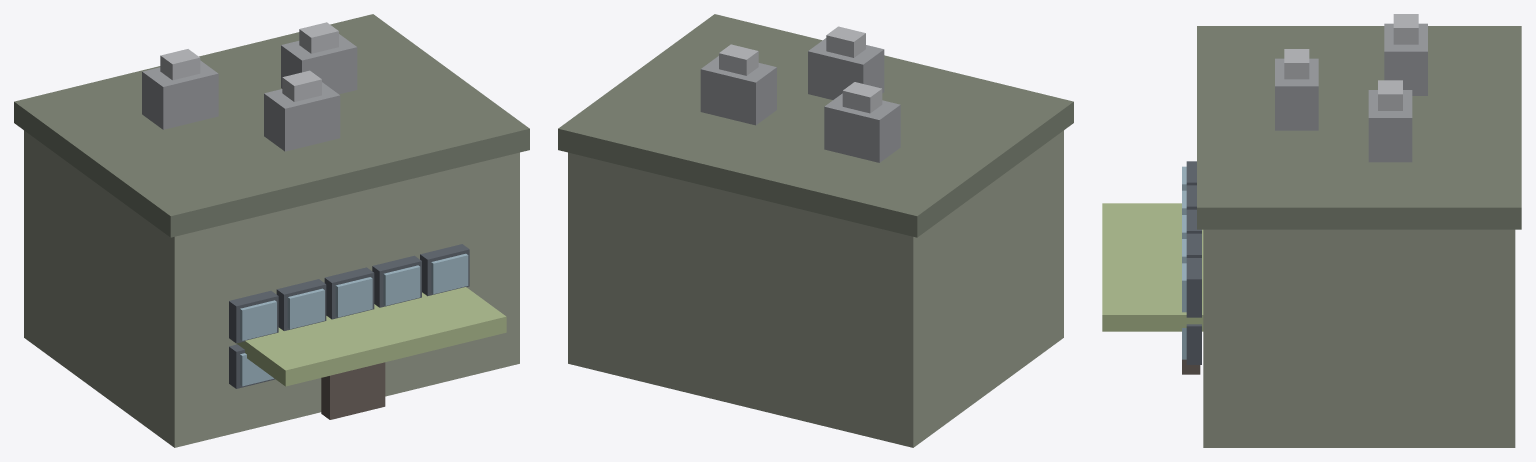
File: furniture_store.glb
The picture shows the model from 3 angles, left to right: view 1: azimuth 30°, elevation 25°; view 2: azimuth 150°, elevation 25°; view 3: azimuth 270°, elevation 25°; orthographic projection. The views are drawn at different scales.
Parts seen in each view (by area): view 1: world; view 2: world; view 3: world.
Boxes of the visible parts, x1,y1,x2,y2 form: world: [14, 14, 529, 447]; world: [558, 14, 1073, 447]; world: [1102, 14, 1521, 447].
Size of the model in its own units: 1.4 by 1.1 by 1.37.
